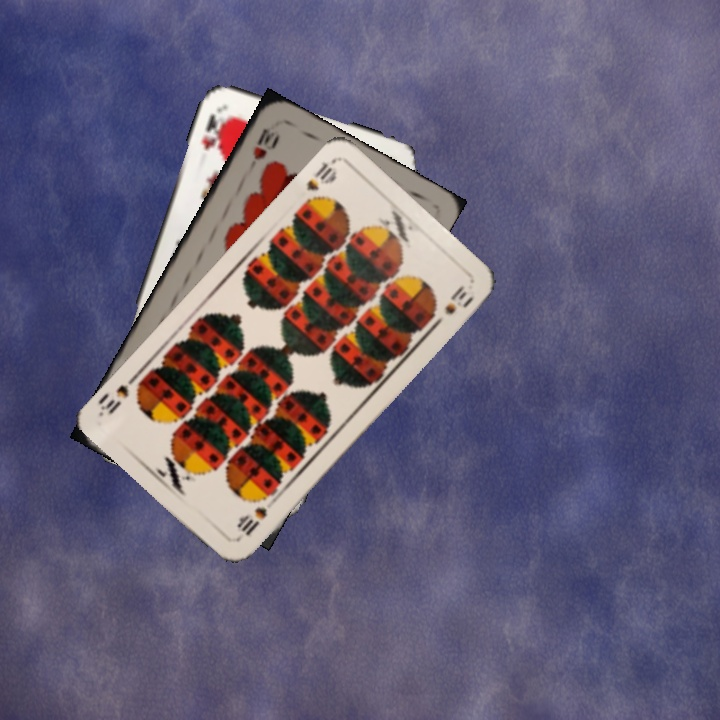H10: (248, 124, 281, 163)
HK: (197, 109, 231, 153)
S10: (233, 490, 272, 539), (302, 157, 340, 194)
